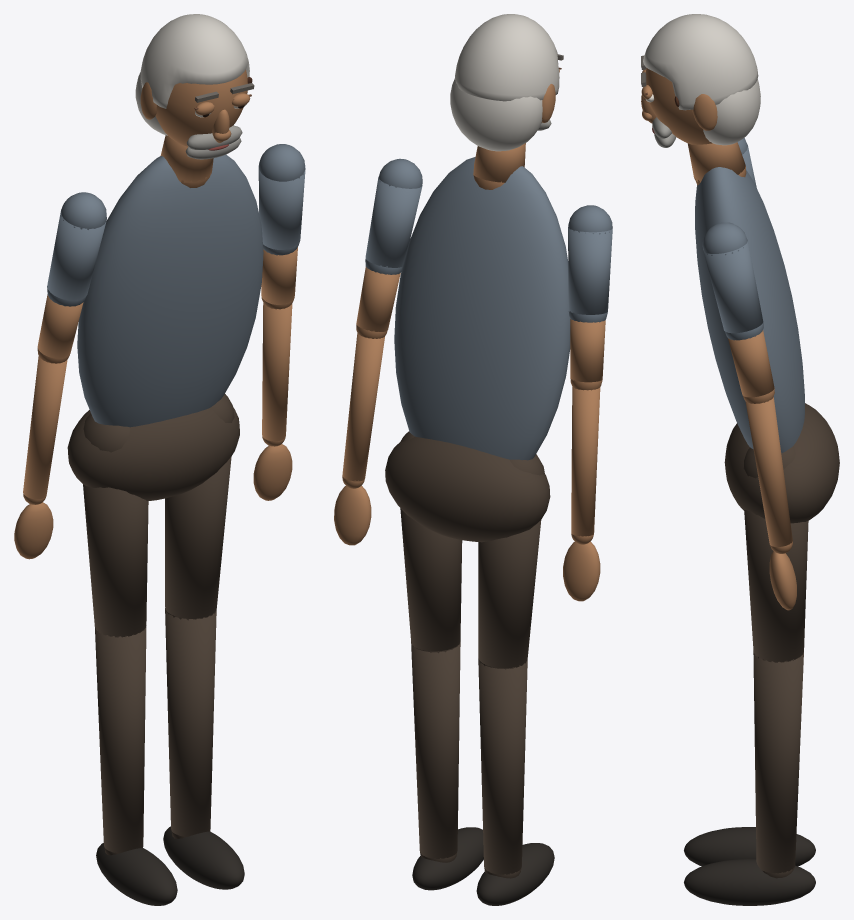
The model's file is ong-hai.glb.
3 views of the same model, side by side, from view 1: azimuth 30°, elevation 25°; view 2: azimuth 150°, elevation 25°; view 3: azimuth 270°, elevation 25° (orthographic). The views are drawn at different scales.
Visible parts, largest first — view 1: Sphere.011, Sphere.010, Cone.003, Cone.001, Cone, Cone.002, Sphere.029, Cone.007, Cone.010, Sphere.014, Cone.005, Sphere.009 (+11 smaller); view 2: Sphere.011, Sphere.010, Cone.003, Cone.001, Cone, Sphere.029, Cone.002, Sphere.030, Cone.007, Cone.010, Cone.005, Cone.008 (+9 smaller); view 3: Sphere.011, Cone.003, Sphere.029, Sphere.010, Cone.002, Sphere.009, Cone.010, Cone.008, Sphere.004, Sphere.030, Cone.009, Sphere.014 (+5 smaller).
Boxes of the visible parts, bbox=[...] form: Sphere.011: bbox=[77, 154, 263, 427]; Sphere.010: bbox=[67, 407, 239, 500]; Cone.003: bbox=[165, 608, 216, 836]; Cone.001: bbox=[95, 628, 146, 853]; Cone: bbox=[83, 484, 148, 637]; Cone.002: bbox=[165, 456, 231, 619]; Sphere.029: bbox=[140, 14, 249, 108]; Cone.007: bbox=[23, 356, 67, 499]; Cone.010: bbox=[262, 303, 292, 441]; Sphere.014: bbox=[155, 69, 247, 146]; Cone.005: bbox=[47, 209, 106, 300]; Sphere.009: bbox=[163, 826, 244, 889]; Sphere.011: bbox=[394, 157, 570, 460]; Sphere.010: bbox=[385, 436, 550, 542]; Cone.003: bbox=[411, 642, 460, 858]; Cone.001: bbox=[478, 658, 527, 874]; Cone: bbox=[478, 520, 541, 668]; Sphere.029: bbox=[455, 14, 559, 101]; Cone.002: bbox=[400, 508, 462, 651]; Sphere.030: bbox=[450, 78, 542, 151]; Cone.007: bbox=[571, 387, 600, 536]; Cone.010: bbox=[342, 333, 384, 481]; Cone.005: bbox=[568, 227, 612, 314]; Cone.008: bbox=[365, 176, 422, 267]; Sphere.011: bbox=[695, 167, 804, 453]; Cone.003: bbox=[753, 651, 803, 873]; Sphere.029: bbox=[643, 14, 758, 110]; Sphere.010: bbox=[724, 403, 839, 523]; Cone.002: bbox=[744, 510, 808, 662]; Sphere.009: bbox=[684, 859, 815, 905]; Cone.010: bbox=[745, 397, 792, 546]; Cone.008: bbox=[703, 241, 763, 333]; Sphere.004: bbox=[684, 827, 815, 866]; Sphere.030: bbox=[703, 79, 760, 145]; Cone.009: bbox=[728, 330, 774, 397]; Sphere.014: bbox=[645, 68, 712, 144].
Size of the model in its own units: 0.542 by 1.67 by 0.3454.
